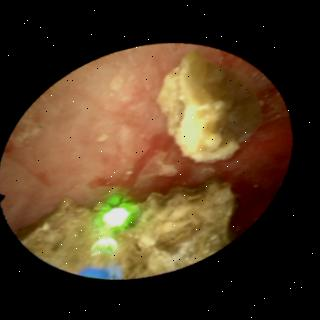fiber: (86, 268, 124, 277)
laser: (97, 197, 142, 234), (95, 236, 120, 252)
stone: (25, 179, 240, 273), (160, 50, 259, 160)
tissue: (5, 43, 289, 228)
